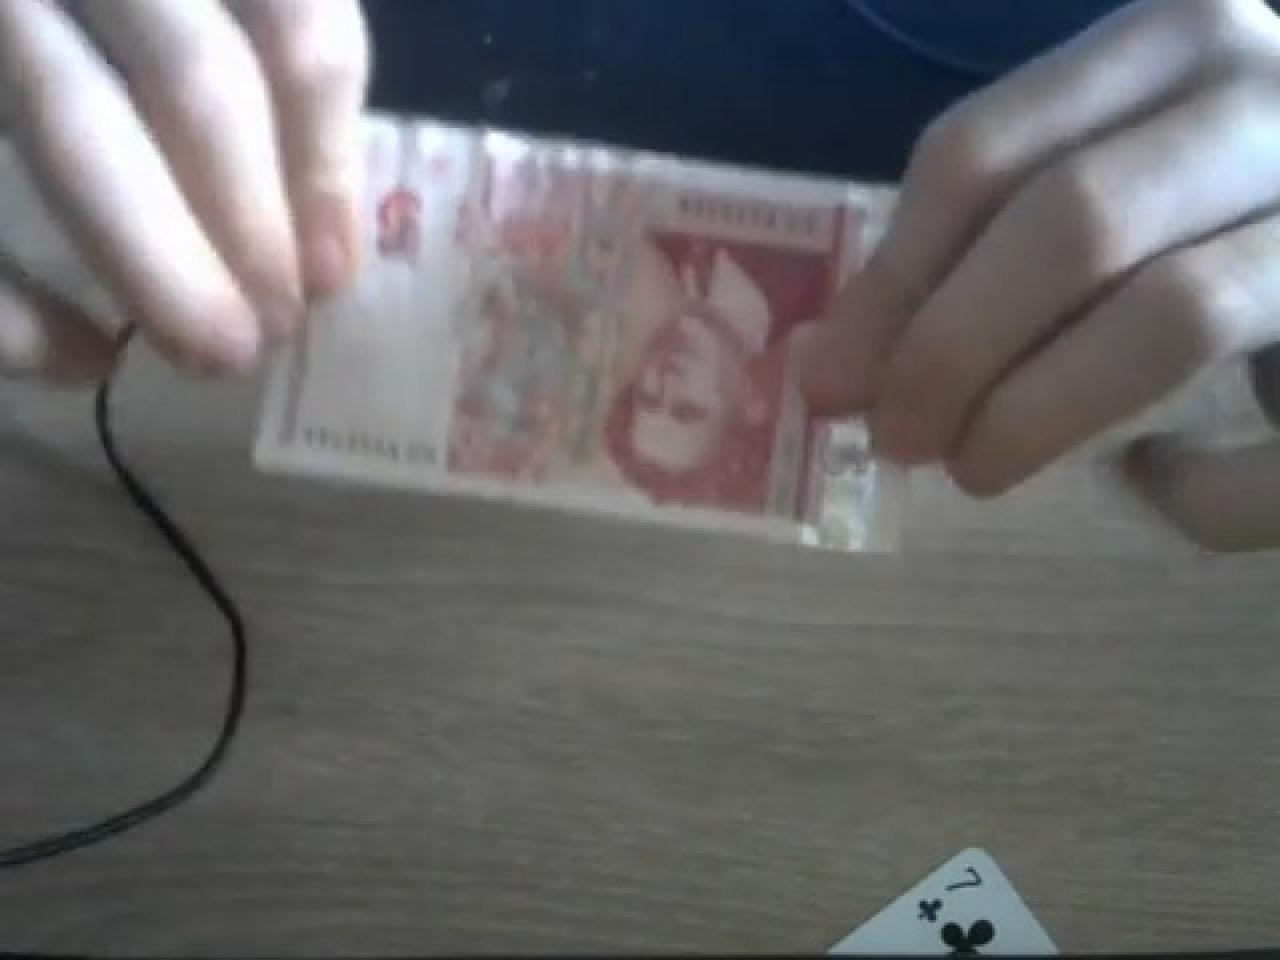5leva: (251, 112, 1200, 571), (587, 219, 846, 522)
